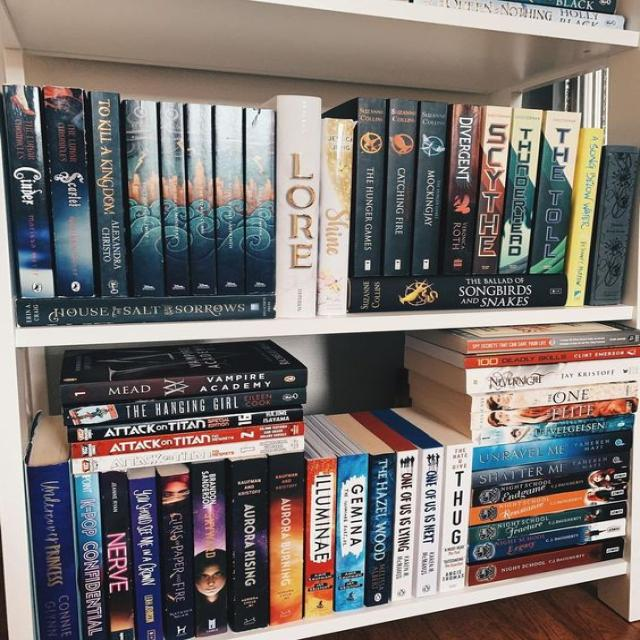book: (43, 86, 94, 297), (4, 85, 54, 298), (275, 96, 322, 317), (62, 388, 307, 428), (26, 462, 80, 639), (70, 420, 305, 460), (62, 370, 309, 406), (72, 436, 305, 474), (68, 407, 304, 444), (530, 110, 582, 275), (589, 145, 639, 305), (125, 100, 165, 297), (17, 296, 277, 326), (350, 277, 566, 313), (467, 538, 626, 586), (91, 92, 128, 297), (499, 109, 543, 275), (468, 520, 626, 565), (318, 119, 354, 315), (469, 482, 628, 525), (443, 103, 482, 276), (469, 502, 627, 544), (567, 129, 604, 305), (465, 357, 640, 394), (233, 456, 269, 633), (470, 467, 629, 507), (474, 105, 511, 275), (270, 452, 306, 625), (472, 433, 635, 471), (413, 100, 448, 275), (384, 97, 418, 275), (471, 449, 630, 487), (192, 460, 226, 637), (355, 96, 387, 276), (74, 472, 108, 640), (245, 107, 275, 294), (100, 471, 133, 640), (160, 103, 189, 295), (187, 103, 216, 295), (216, 105, 245, 295), (335, 453, 369, 612), (470, 399, 638, 431), (163, 471, 194, 640), (130, 477, 162, 640), (471, 416, 636, 447), (305, 457, 336, 618), (470, 384, 640, 412), (440, 444, 472, 591), (367, 453, 396, 608), (416, 448, 443, 596), (392, 450, 418, 600), (468, 333, 640, 355), (465, 347, 640, 368)
